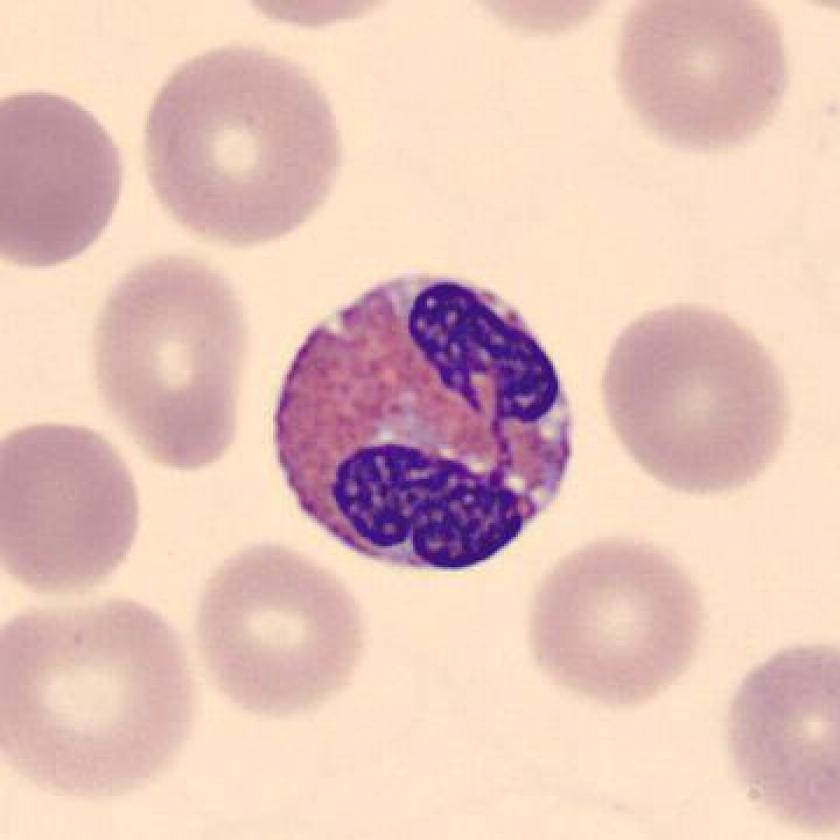eosinophil: (265, 254, 584, 594)
